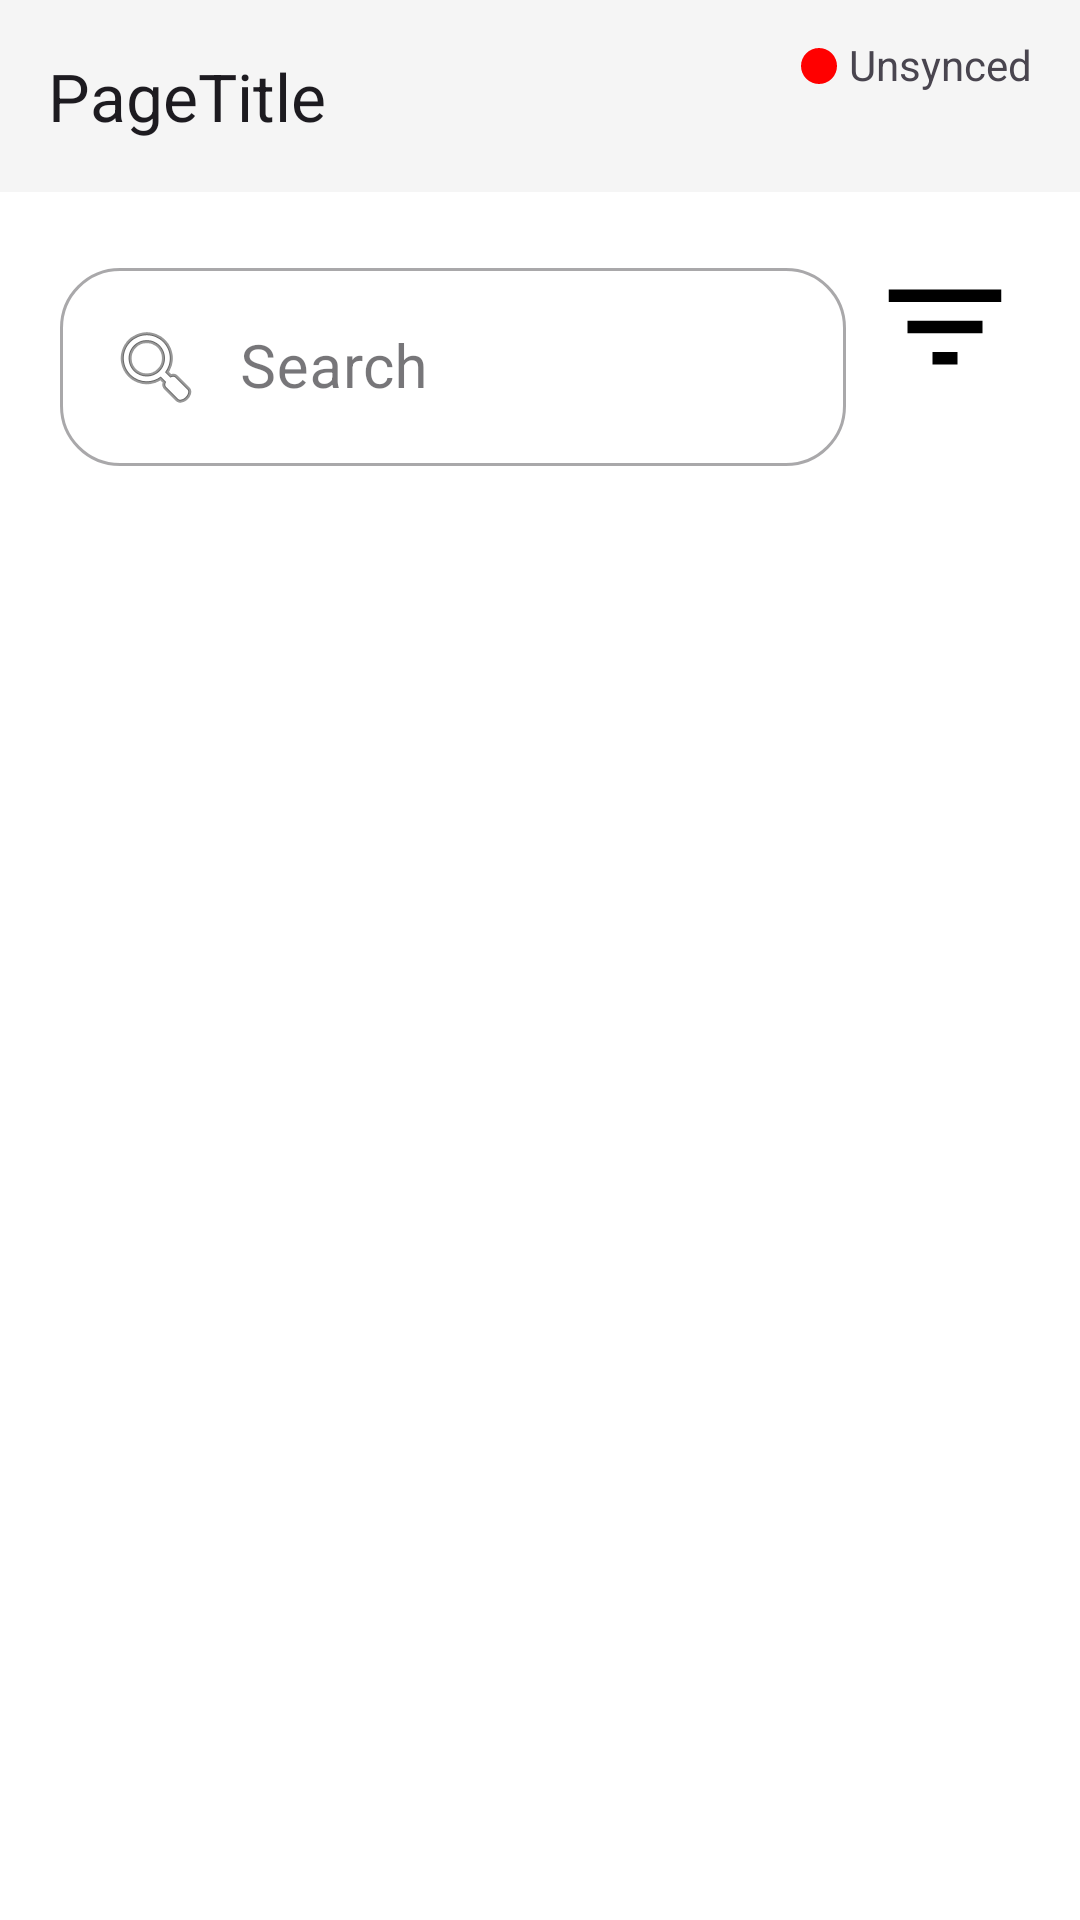

Locate icon controls on the screen. Image size 1080*1920, boxes as [left=x1, top=y1, right=x2, bottom=y2].
Filter: [left=888, top=289, right=1002, bottom=365]
